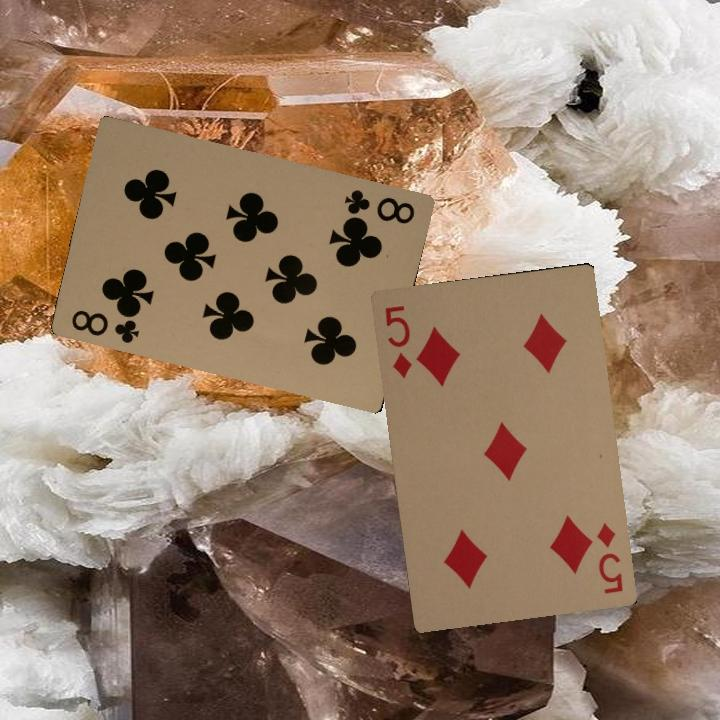5d: (380, 301, 414, 380), (592, 519, 626, 597)
8c: (340, 185, 417, 227), (67, 305, 142, 346)
